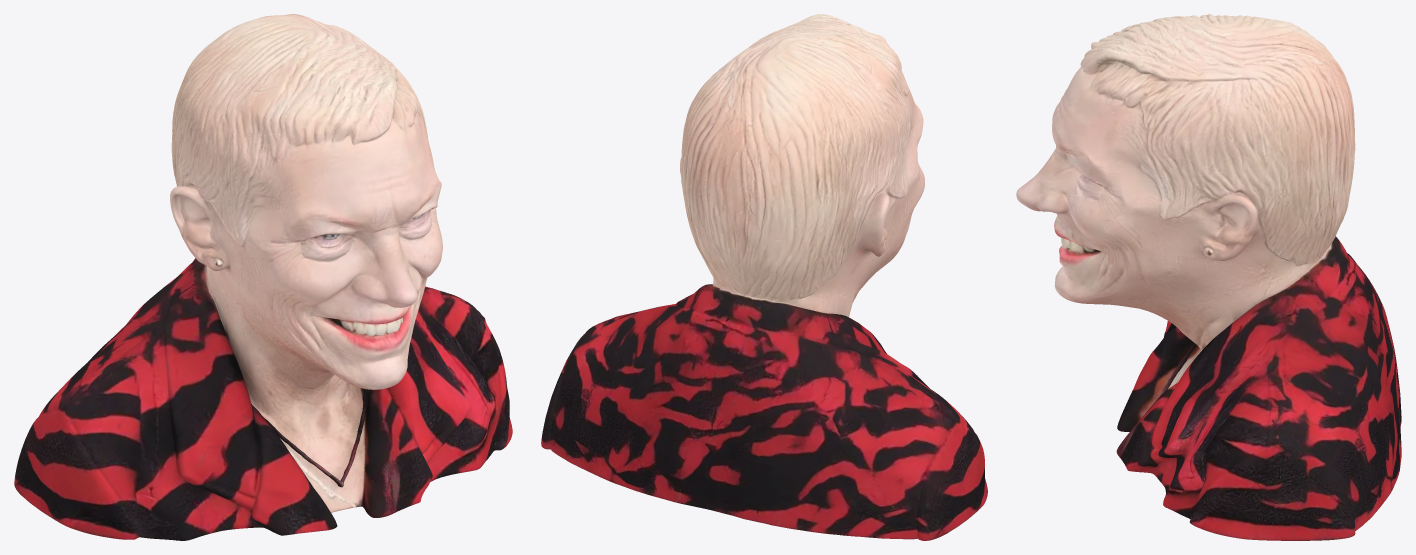
Rendered from small.glb.
3 renders of one model, left to right at view 1: azimuth 30°, elevation 25°; view 2: azimuth 150°, elevation 25°; view 3: azimuth 270°, elevation 25°, orthographic. The views are drawn at different scales.
Visible parts, largest first — view 1: model; view 2: model; view 3: model.
Part boxes in pixels (<box>): model: <box>14,14,512,540</box>; model: <box>541,14,987,540</box>; model: <box>1016,14,1401,540</box>.
Bounding box in the file's own units: 1.79 × 1.71 × 1.43.
1 material, 1 textured.
